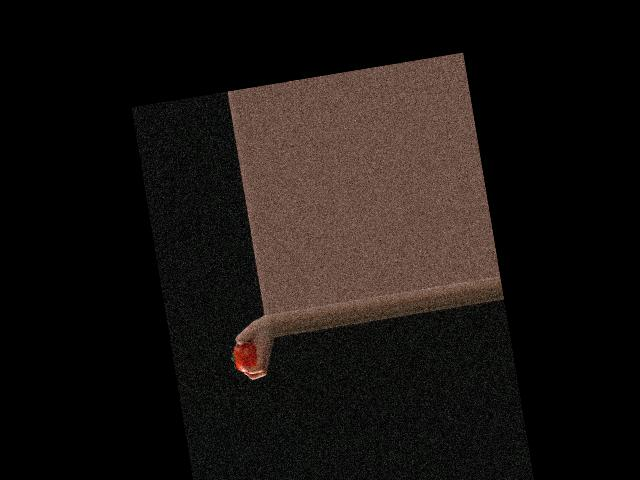tomato: (229, 340, 258, 373)
